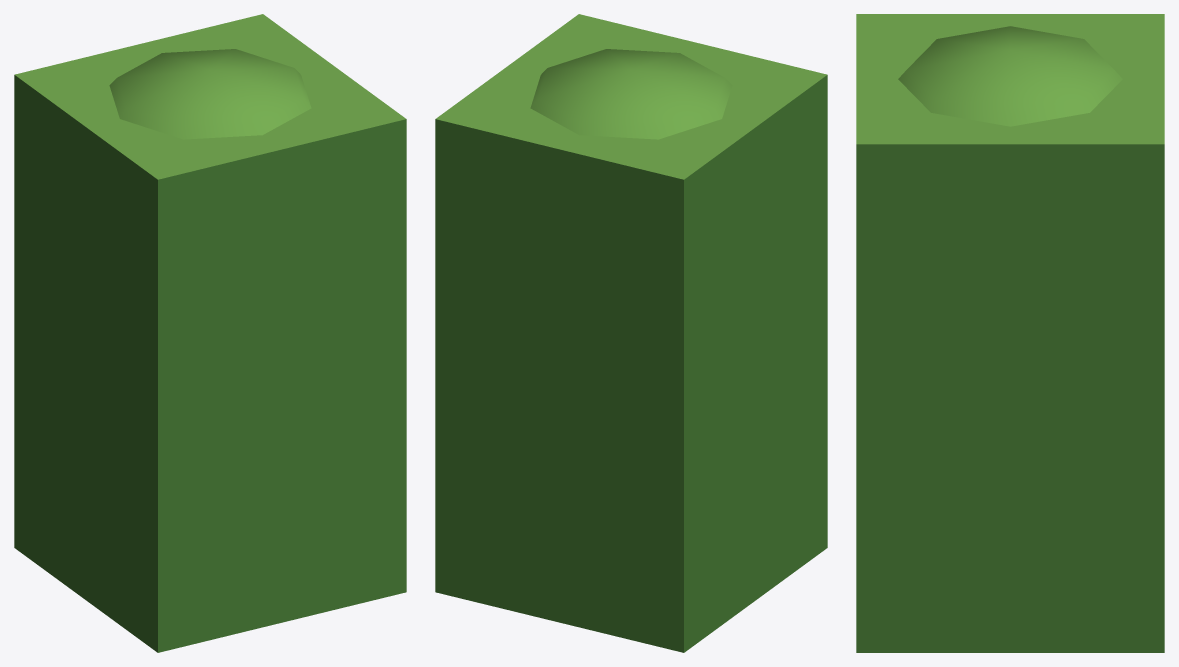
Rendered from fence-hedge-post.lod1.glb.
3 renders of one model, left to right at view 1: azimuth 30°, elevation 25°; view 2: azimuth 150°, elevation 25°; view 3: azimuth 270°, elevation 25°, orthographic. The views are drawn at different scales.
Parts seen in each view (by area): view 1: fence-hedge-post_lod1; view 2: fence-hedge-post_lod1; view 3: fence-hedge-post_lod1.
Part boxes in pixels (x1,y1,x2,y2): fence-hedge-post_lod1: [14, 14, 406, 652]; fence-hedge-post_lod1: [435, 14, 827, 652]; fence-hedge-post_lod1: [856, 14, 1164, 652].
Size of the model in its own units: 0.44 by 0.845 by 0.44.
